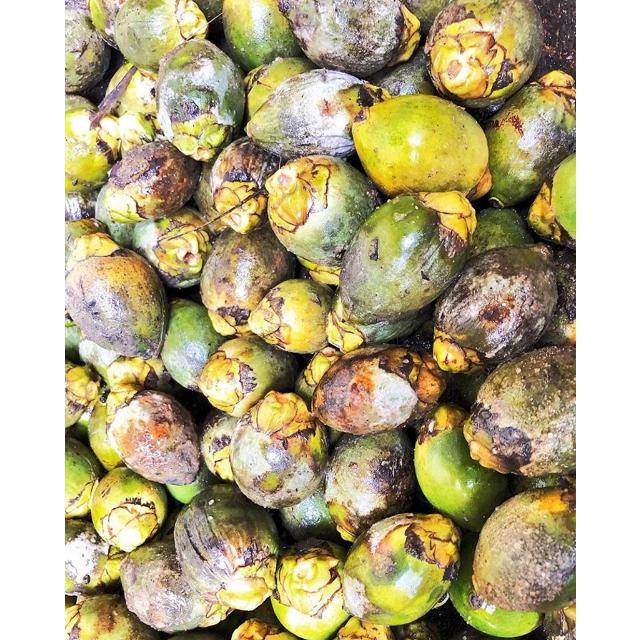damaged: (432, 249, 554, 375), (466, 346, 574, 480)
